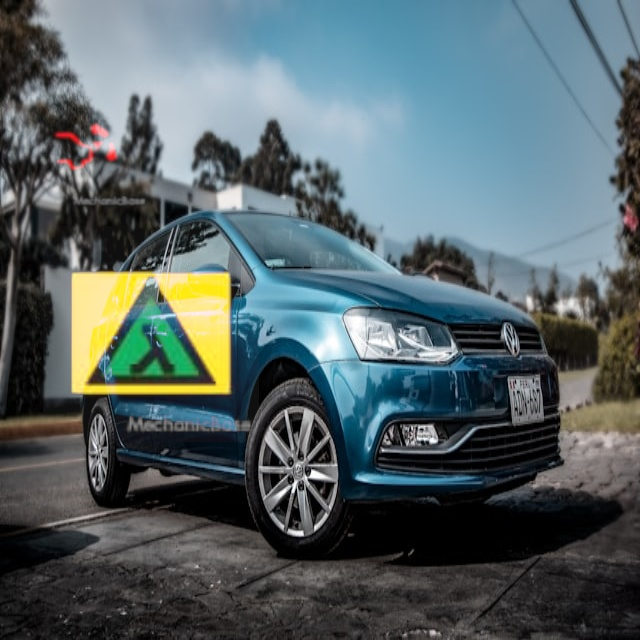symbol: (43, 226, 259, 442), (25, 86, 150, 211)
